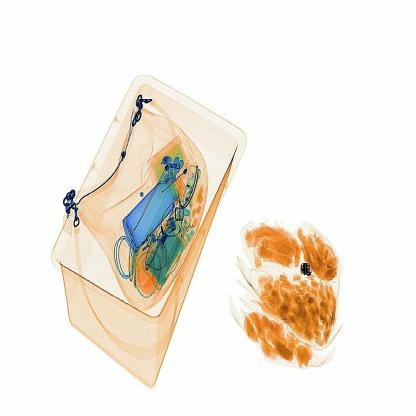scissors: (297, 260, 313, 282)
